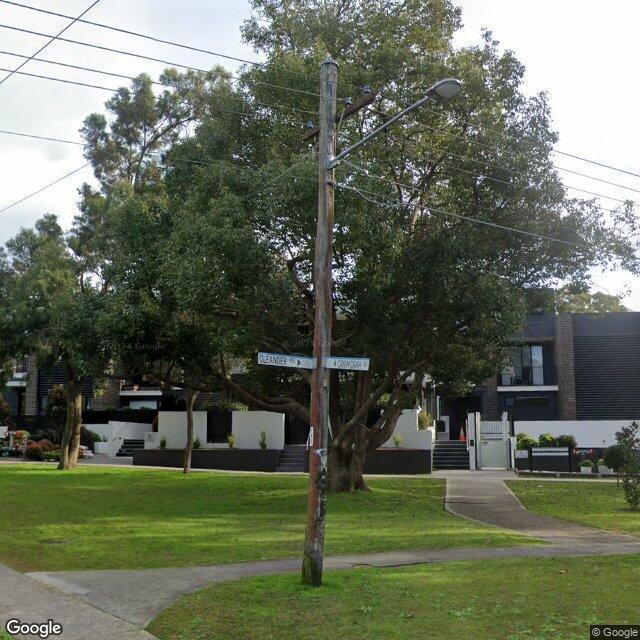crossarm: (298, 89, 378, 144)
streetlight: (331, 78, 464, 169)
timber-pole: (299, 61, 339, 585)
